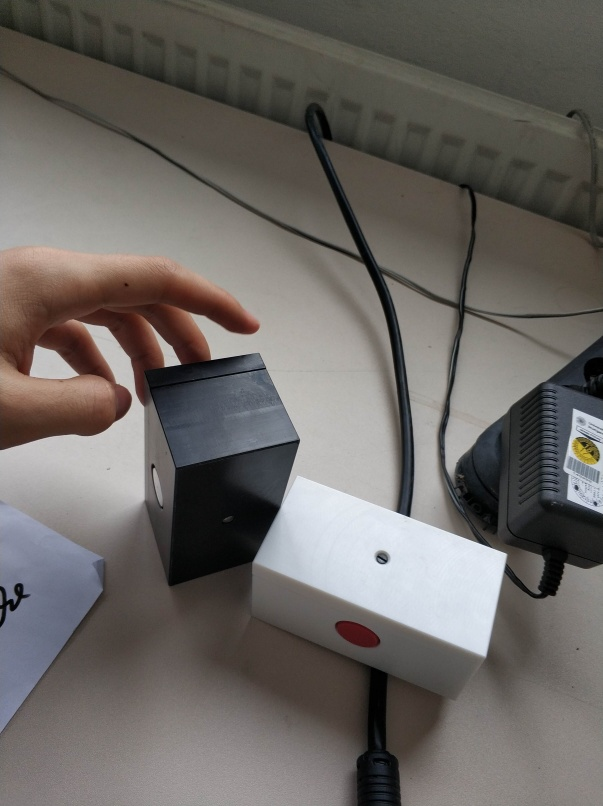black+black+silver: (138, 348, 304, 600)
white+white+red: (251, 473, 513, 702)
